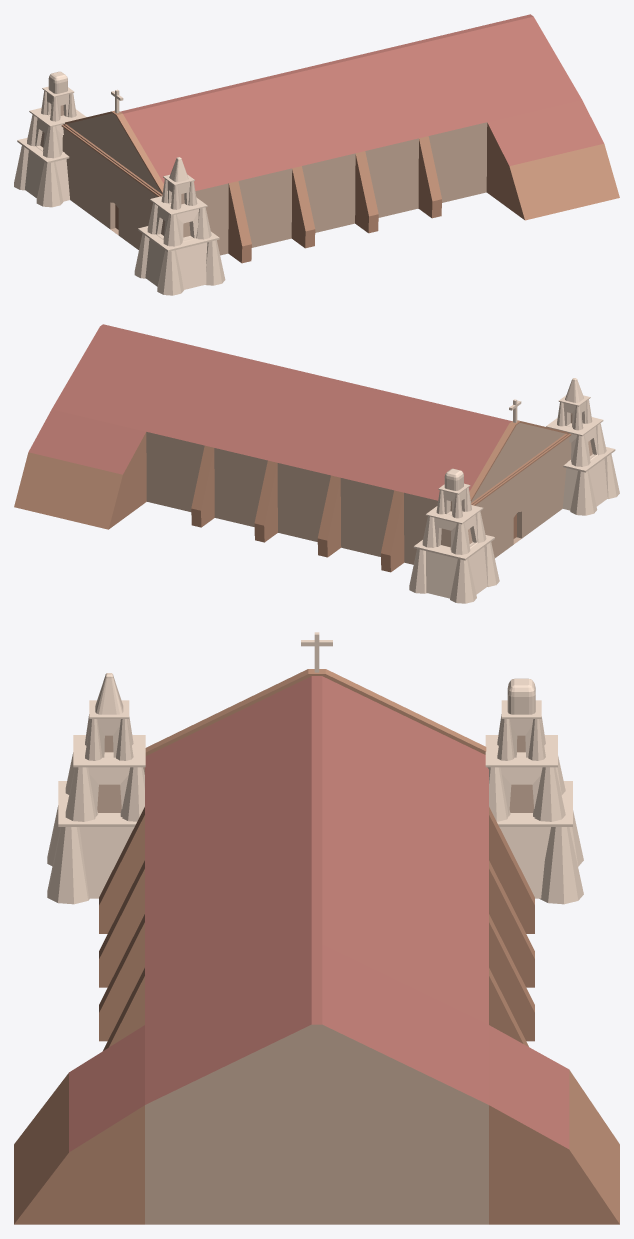
Rendered from church.fbx.
3 renders of one model, top to bottom at view 1: azimuth 30°, elevation 25°; view 2: azimuth 150°, elevation 25°; view 3: azimuth 270°, elevation 25°, orthographic. The views are drawn at different scales.
Parts seen in each view (by area): view 1: church; view 2: church; view 3: church.
Part boxes in pixels (x1,y1,x2,y2): church: (14,14,619,295); church: (14,324,619,603); church: (14,632,619,1224).
Bounding box in the file's own units: 5981 × 1841 × 4119.
